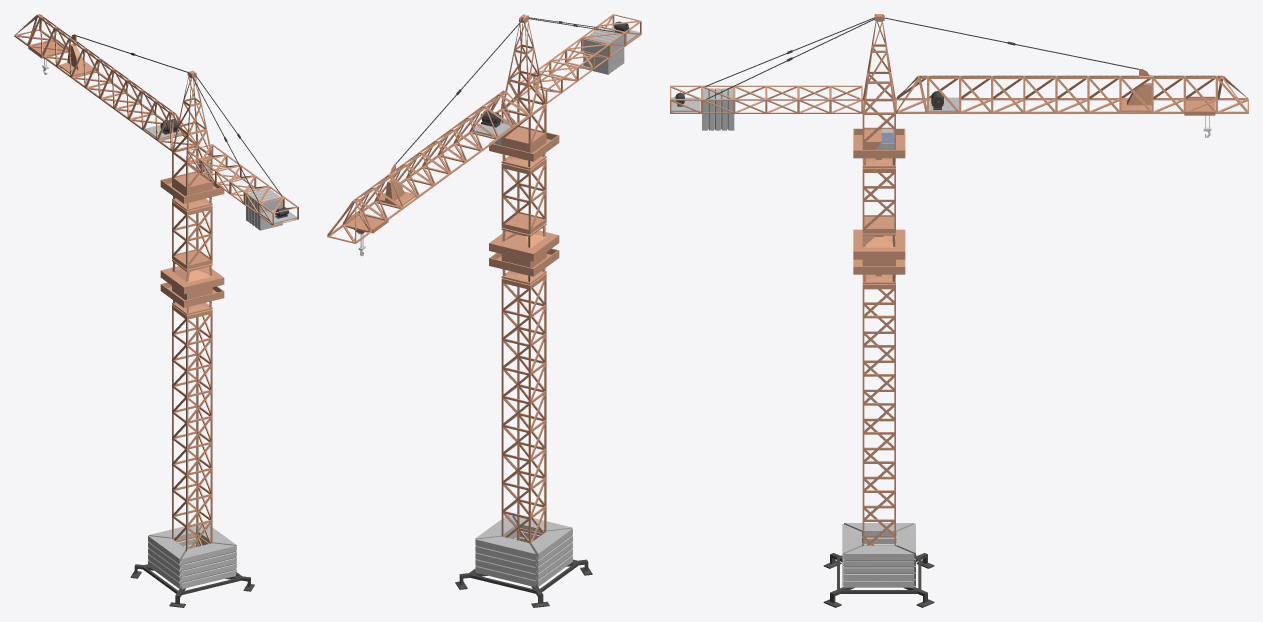
The model's file is Crane.FBX.
3 renders of one model, left to right at view 1: azimuth 30°, elevation 25°; view 2: azimuth 150°, elevation 25°; view 3: azimuth 270°, elevation 25°, orthographic. The views are drawn at different scales.
Parts seen in each view (by area): view 1: Crane_base, Crane_top; view 2: Crane_base, Crane_top; view 3: Crane_top, Crane_base.
Part boxes in pixels (left/top/right/bottom): Crane_base: left=130, top=201, right=254, bottom=607; Crane_top: left=14, top=14, right=298, bottom=230; Crane_base: left=455, top=158, right=592, bottom=607; Crane_top: left=327, top=14, right=641, bottom=256; Crane_top: left=670, top=14, right=1248, bottom=167; Crane_base: left=823, top=168, right=934, bottom=607.
Size of the model in its own units: 504 by 2870 by 2645.
